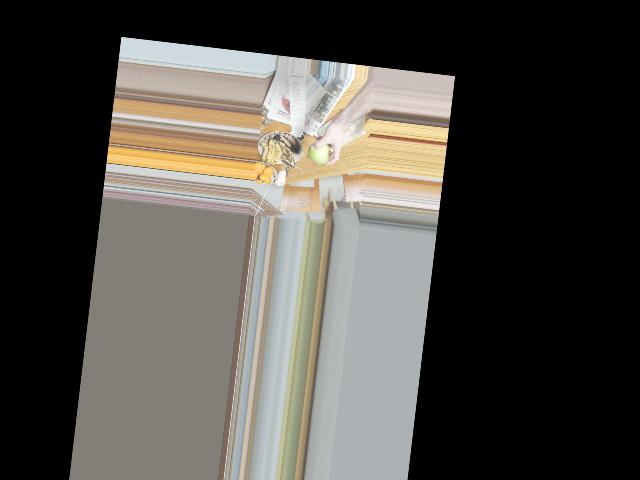apple: (307, 138, 331, 166)
